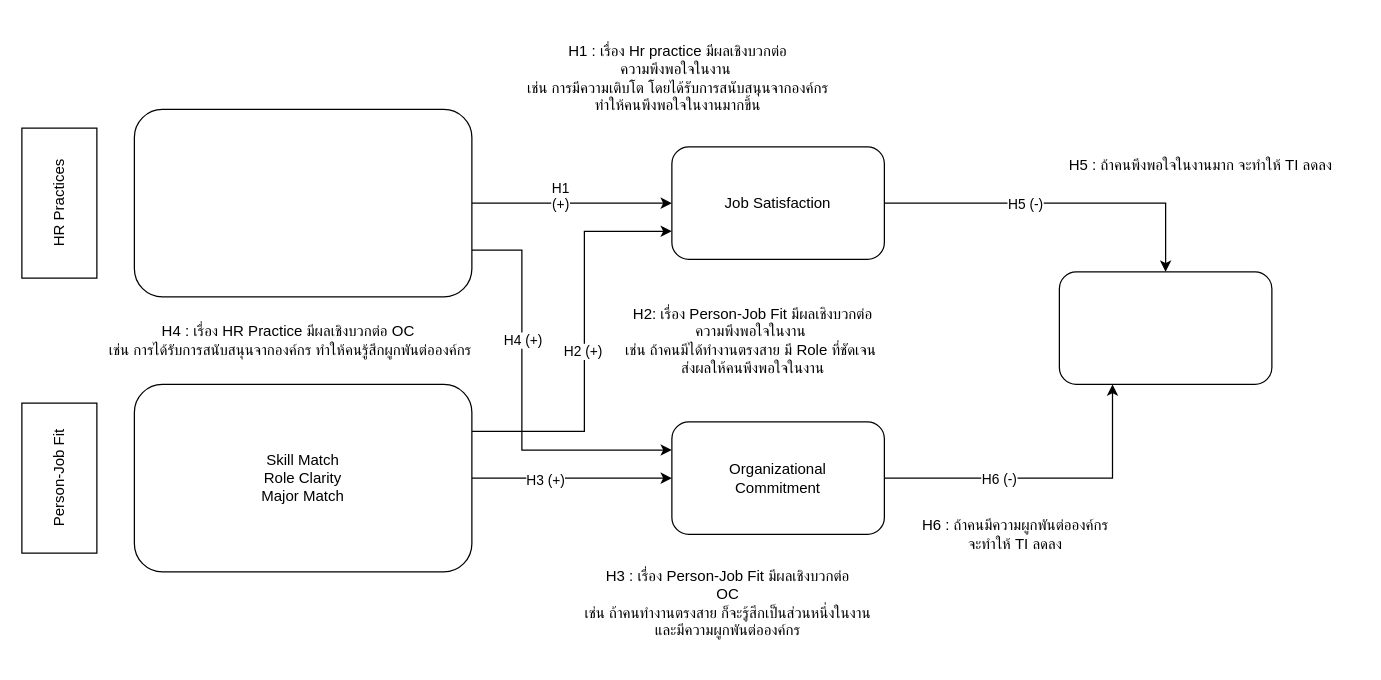
The diagram is 1381 pixels wide and 680 high, and some of its shapes have lost their labels. Each missing label, with the box of its shape:
- Career Growth - Compensation - Training Management Support: (133, 108, 472, 297)
Turnover Intention: (1058, 271, 1272, 384)
